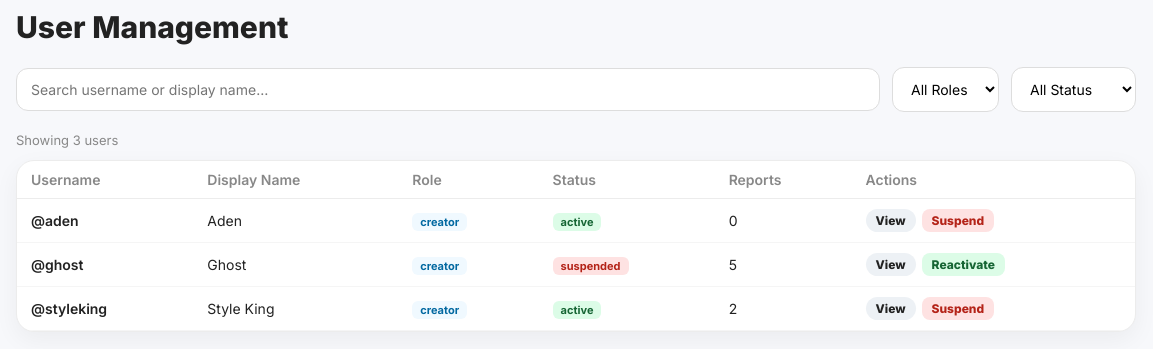
it: filters users by search query
The width and height of the screenshot is (1153, 349).
Type "aden" into the search field at (448, 90), box x1=16 y1=68 x2=880 y2=111
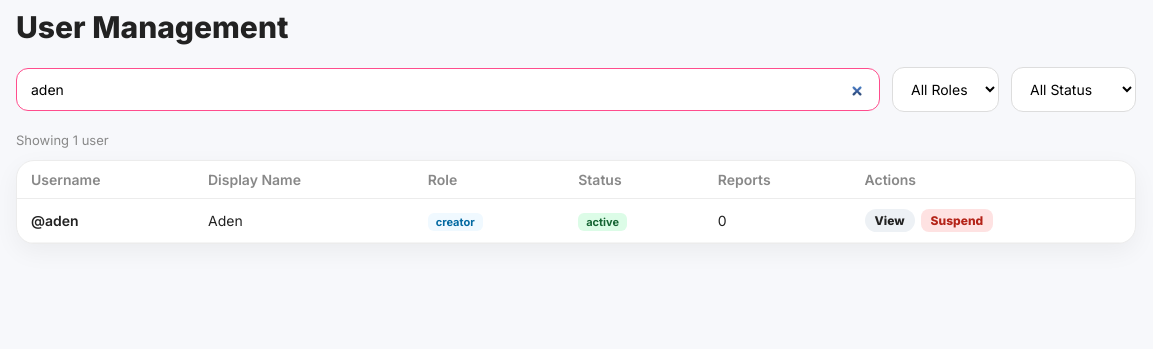
Expected: the text "@aden" is shown, x1=17 y1=198 x2=194 y2=242
Expected: the text "@ghost" is gone
